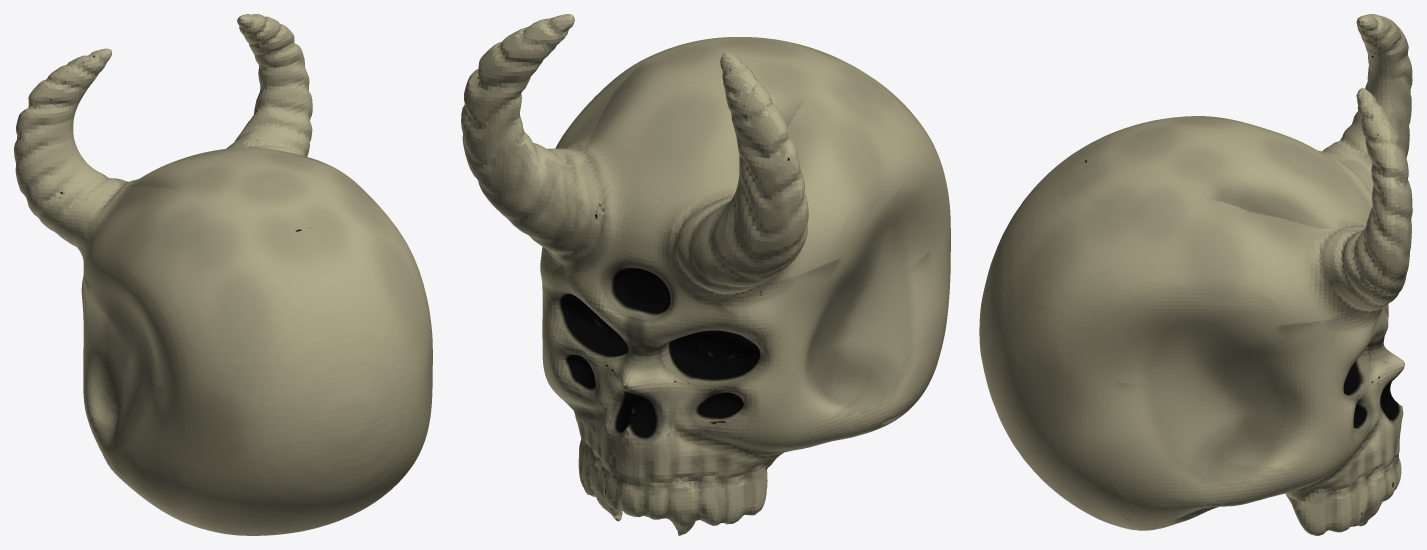
File: Skull.fbx
The picture shows the model from 3 angles, left to right: view 1: azimuth 30°, elevation 25°; view 2: azimuth 150°, elevation 25°; view 3: azimuth 270°, elevation 25°; orthographic projection. The views are drawn at different scales.
Parts seen in each view (by area): view 1: Sphere; view 2: Sphere; view 3: Sphere.
Part boxes in pixels (bbox=[...]): Sphere: bbox=[14, 14, 432, 535]; Sphere: bbox=[461, 14, 950, 535]; Sphere: bbox=[979, 14, 1412, 535].
Bounding box in the file's own units: 162 × 226 × 193.
